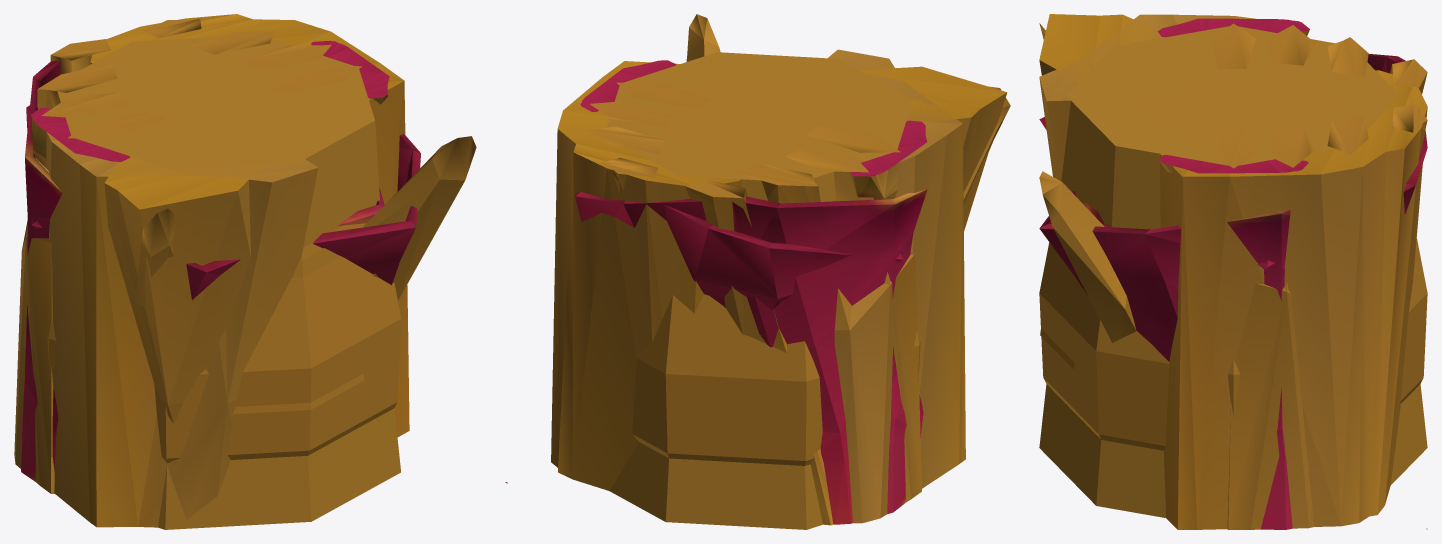
The model's file is hand_dispatcher.fbx.
The picture shows the model from 3 angles, left to right: view 1: azimuth 30°, elevation 25°; view 2: azimuth 150°, elevation 25°; view 3: azimuth 270°, elevation 25°; orthographic projection. The views are drawn at different scales.
Parts seen in each view (by area): view 1: Left_cuff, Left_finger0_distal, Right_cuff, Left_finger0_tip, Left_palm, Left_forearm, Right_palm, Right_forearm; view 2: Right_cuff, Left_finger0_distal, Left_finger0_tip, Left_forearm, Left_palm, Left_cuff, Right_forearm, Right_palm; view 3: Right_cuff, Left_finger0_distal, Left_finger0_tip, Right_palm, Right_forearm, Left_palm, Left_cuff, Left_forearm.
Part boxes in pixels (x1=…): Left_cuff: x1=45, y1=132, x2=318, y2=527; Left_finger0_distal: x1=53, y1=37, x2=400, y2=529; Right_cuff: x1=90, y1=14, x2=409, y2=437; Left_finger0_tip: x1=47, y1=60, x2=401, y2=463; Left_palm: x1=14, y1=39, x2=476, y2=493; Left_forearm: x1=20, y1=61, x2=384, y2=481; Right_palm: x1=135, y1=18, x2=361, y2=308; Right_forearm: x1=26, y1=40, x2=420, y2=284; Right_cuff: x1=551, y1=61, x2=1007, y2=490; Left_finger0_distal: x1=606, y1=52, x2=912, y2=529; Left_finger0_tip: x1=632, y1=75, x2=920, y2=465; Left_forearm: x1=575, y1=120, x2=927, y2=524; Left_palm: x1=686, y1=14, x2=921, y2=525; Left_cuff: x1=505, y1=49, x2=965, y2=488; Right_forearm: x1=580, y1=60, x2=904, y2=309; Right_palm: x1=587, y1=82, x2=1010, y2=205; Right_cuff: x1=1039, y1=14, x2=1427, y2=529; Left_finger0_distal: x1=1039, y1=26, x2=1427, y2=517; Left_finger0_tip: x1=1039, y1=63, x2=1427, y2=450; Right_palm: x1=1039, y1=23, x2=1427, y2=529; Right_forearm: x1=1039, y1=108, x2=1427, y2=529; Left_palm: x1=1039, y1=23, x2=1427, y2=342; Left_cuff: x1=1039, y1=14, x2=1427, y2=529; Left_forearm: x1=1039, y1=18, x2=1427, y2=269.
Size of the model in its own units: 1 by 1 by 1.
